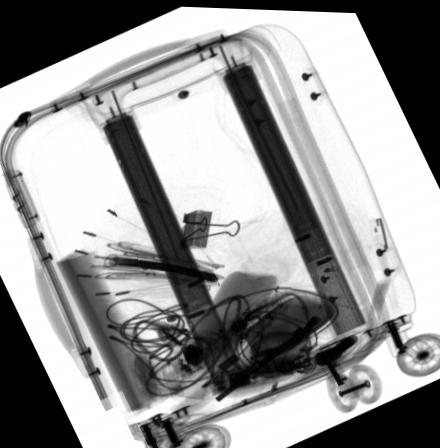Gun: (213, 311, 321, 400)
